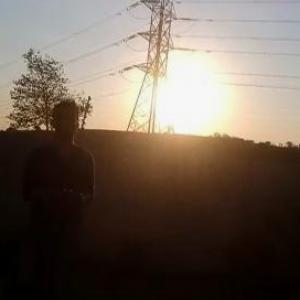follow: (12, 91, 100, 299)
